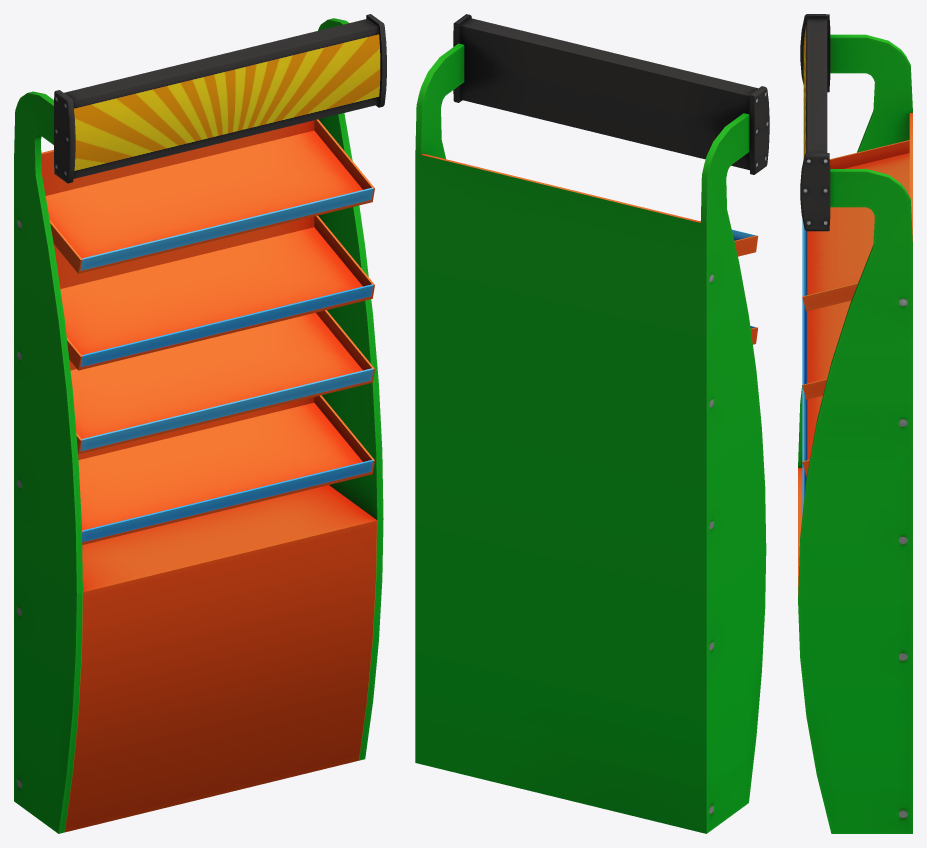
The model's file is CommShelving02_2.FBX.
3 views of the same model, side by side, from view 1: azimuth 30°, elevation 25°; view 2: azimuth 150°, elevation 25°; view 3: azimuth 270°, elevation 25° (orthographic). The views are drawn at different scales.
Visible parts, largest first — view 1: CommShelving02_2; view 2: CommShelving02_2; view 3: CommShelving02_2.
Boxes of the visible parts, x1,y1,x2,y2 form: CommShelving02_2: (14, 14, 386, 833); CommShelving02_2: (415, 14, 769, 833); CommShelving02_2: (798, 14, 912, 833).
Size of what is drawn, in the model's own units: 1.03 by 2.32 by 0.355.
